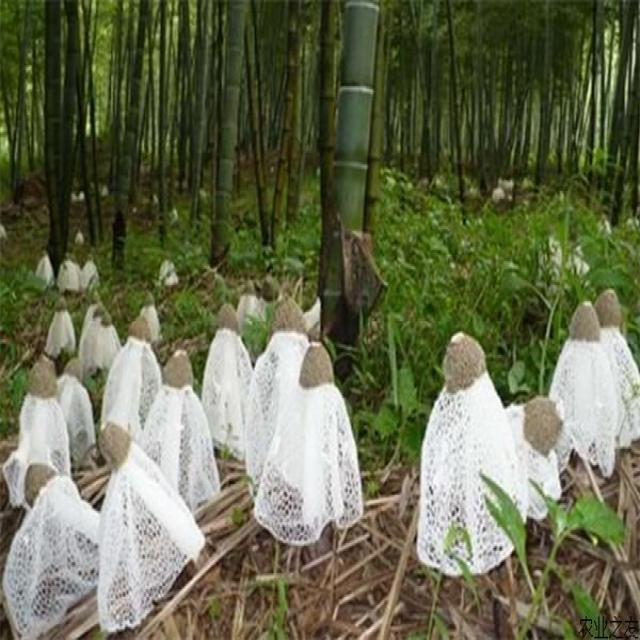Dictyophora indusiate: (419, 330, 526, 572), (255, 339, 377, 548), (91, 421, 206, 634), (3, 460, 98, 640), (143, 348, 220, 503), (551, 298, 615, 471), (9, 358, 72, 505), (202, 303, 249, 457), (593, 288, 640, 441), (503, 402, 567, 507), (101, 313, 161, 424)
